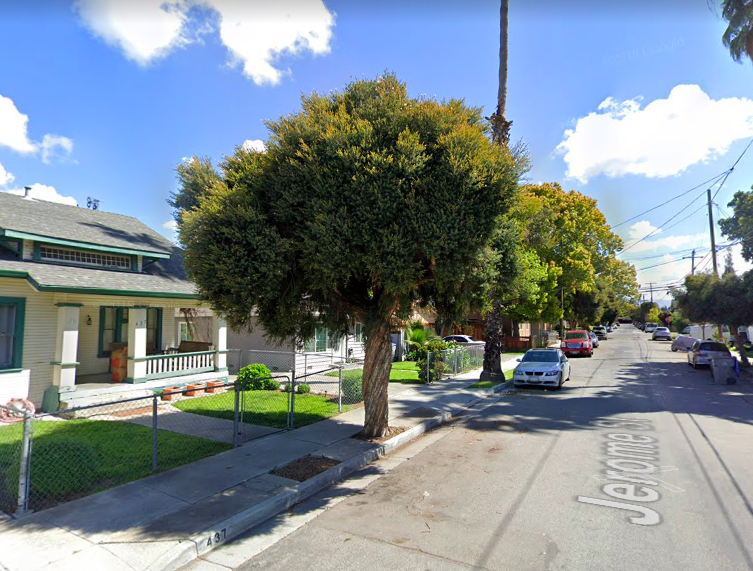tree: (169, 65, 532, 437), (451, 181, 625, 381)
